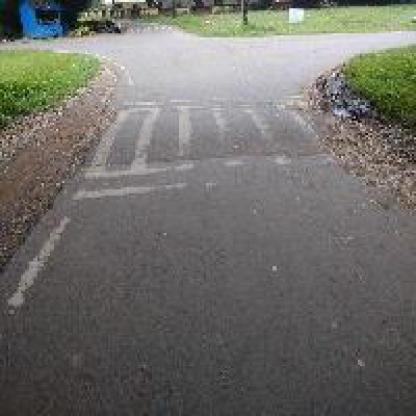Speed Bump: (71, 89, 335, 204)
